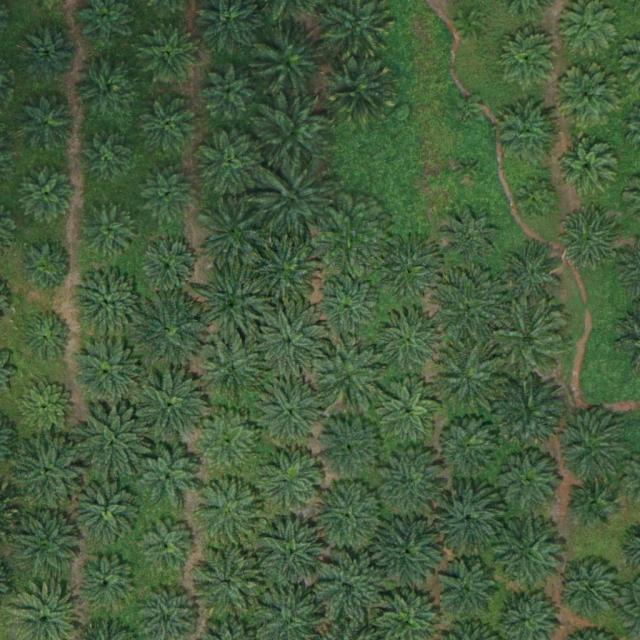Healthy: (316, 202, 387, 273), (261, 97, 332, 168), (261, 164, 332, 235), (195, 479, 266, 550), (190, 547, 261, 618), (315, 341, 386, 412), (252, 25, 322, 96), (15, 438, 85, 509), (13, 508, 83, 579), (72, 267, 142, 338), (72, 340, 143, 410), (78, 406, 148, 477), (74, 550, 144, 621), (135, 372, 206, 442), (199, 335, 269, 406), (249, 235, 319, 306), (255, 379, 325, 450), (258, 519, 328, 590), (313, 274, 383, 345), (314, 412, 384, 483), (372, 232, 442, 303), (375, 304, 445, 375), (378, 446, 448, 517), (434, 274, 504, 345), (432, 341, 502, 412), (433, 479, 503, 550), (492, 304, 562, 375), (495, 375, 565, 446), (493, 446, 563, 517), (557, 413, 627, 484), (326, 52, 396, 122), (436, 204, 506, 274), (196, 129, 266, 199), (201, 200, 271, 270), (74, 477, 144, 547), (137, 298, 207, 368), (197, 272, 267, 342), (254, 310, 324, 380), (313, 484, 383, 554), (314, 554, 384, 624), (373, 515, 443, 585), (494, 520, 564, 590), (377, 378, 440, 441), (499, 245, 562, 308), (555, 559, 618, 622), (555, 67, 617, 130), (557, 134, 619, 197), (558, 208, 620, 271), (497, 25, 559, 88), (500, 103, 562, 166), (137, 24, 199, 87), (139, 92, 201, 155), (77, 58, 139, 121), (17, 22, 79, 85), (17, 92, 79, 155), (136, 445, 198, 508), (196, 411, 258, 474), (259, 449, 321, 512), (437, 414, 500, 476), (437, 560, 499, 623), (202, 64, 257, 119), (140, 168, 195, 223), (143, 241, 198, 296), (79, 131, 134, 186), (20, 167, 75, 222), (19, 239, 74, 294), (19, 381, 74, 436), (83, 204, 137, 260), (142, 519, 196, 574), (570, 477, 617, 525)
Small: (21, 309, 76, 364), (517, 179, 556, 219), (457, 10, 488, 42), (458, 100, 481, 124), (456, 157, 479, 181)
